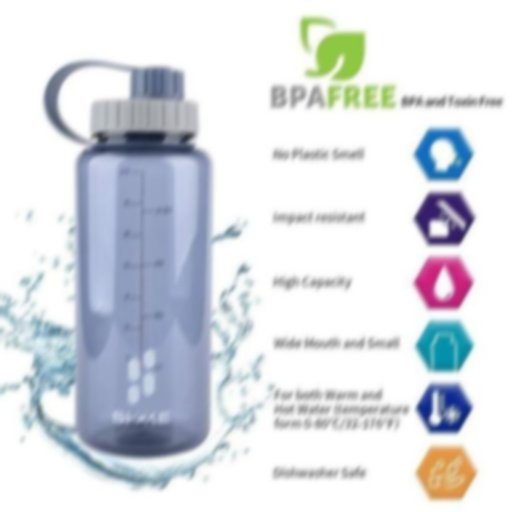bottle: (46, 92, 216, 462)
